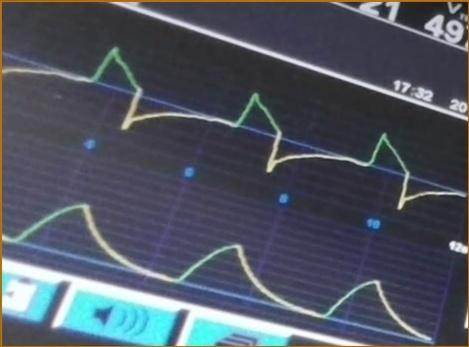Normal Flow: (2, 46, 465, 210)
Normal Volume: (3, 200, 434, 339)
